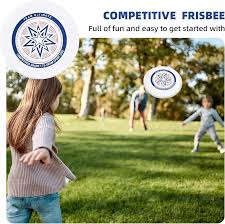disc: (3, 11, 79, 80), (144, 64, 185, 101)
